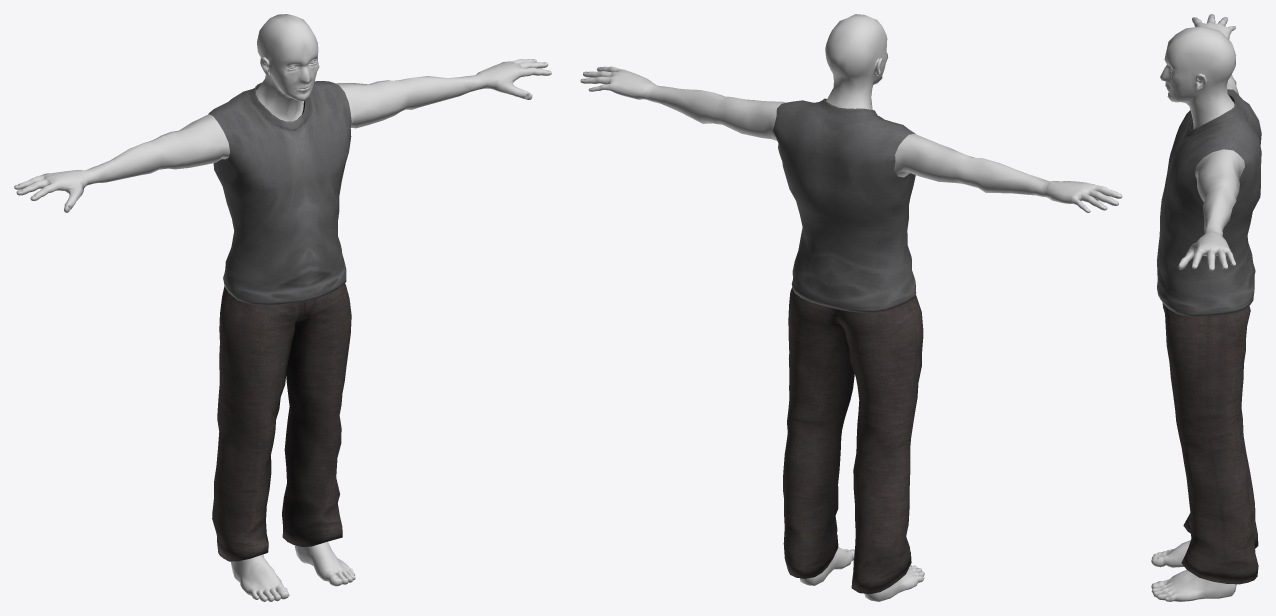
File: Body_With_Pants_T-short.gltf
3 renders of one model, left to right at view 1: azimuth 30°, elevation 25°; view 2: azimuth 150°, elevation 25°; view 3: azimuth 270°, elevation 25°, orthographic. The views are drawn at different scales.
Parts seen in each view (by area): view 1: Pants, t-short, BaseMesh_Man_Simple_Body.001; view 2: Pants, t-short, BaseMesh_Man_Simple_Body.001; view 3: Pants, t-short, BaseMesh_Man_Simple_Body.001.
Boxes of the visible parts, x1,y1,x2,y2 form: Pants: [212, 283, 351, 561]; t-short: [208, 81, 351, 305]; BaseMesh_Man_Simple_Body.001: [14, 14, 551, 601]; Pants: [783, 287, 923, 594]; t-short: [773, 98, 916, 312]; BaseMesh_Man_Simple_Body.001: [580, 14, 1122, 601]; Pants: [1162, 303, 1258, 584]; t-short: [1157, 89, 1261, 316]; BaseMesh_Man_Simple_Body.001: [1151, 14, 1244, 601].
Bounding box in the file's own units: 1.8 × 1.81 × 0.3297.
Materials: 3 (2 with a texture image).
